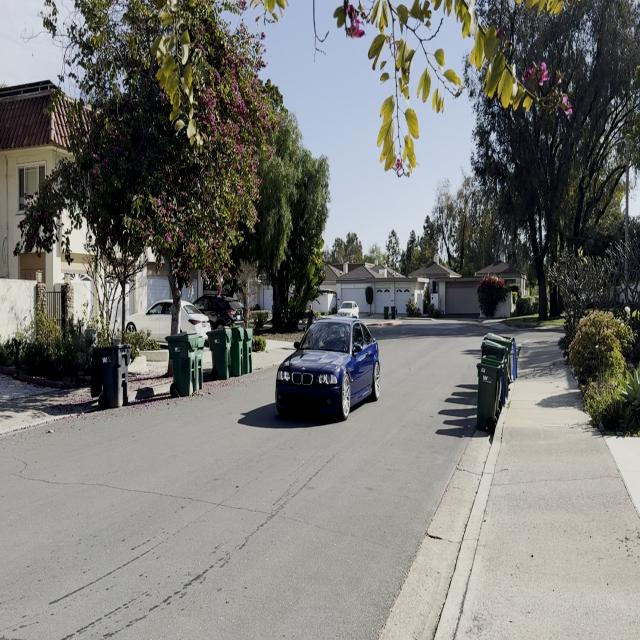Carbeetle: (266, 300, 390, 431)
